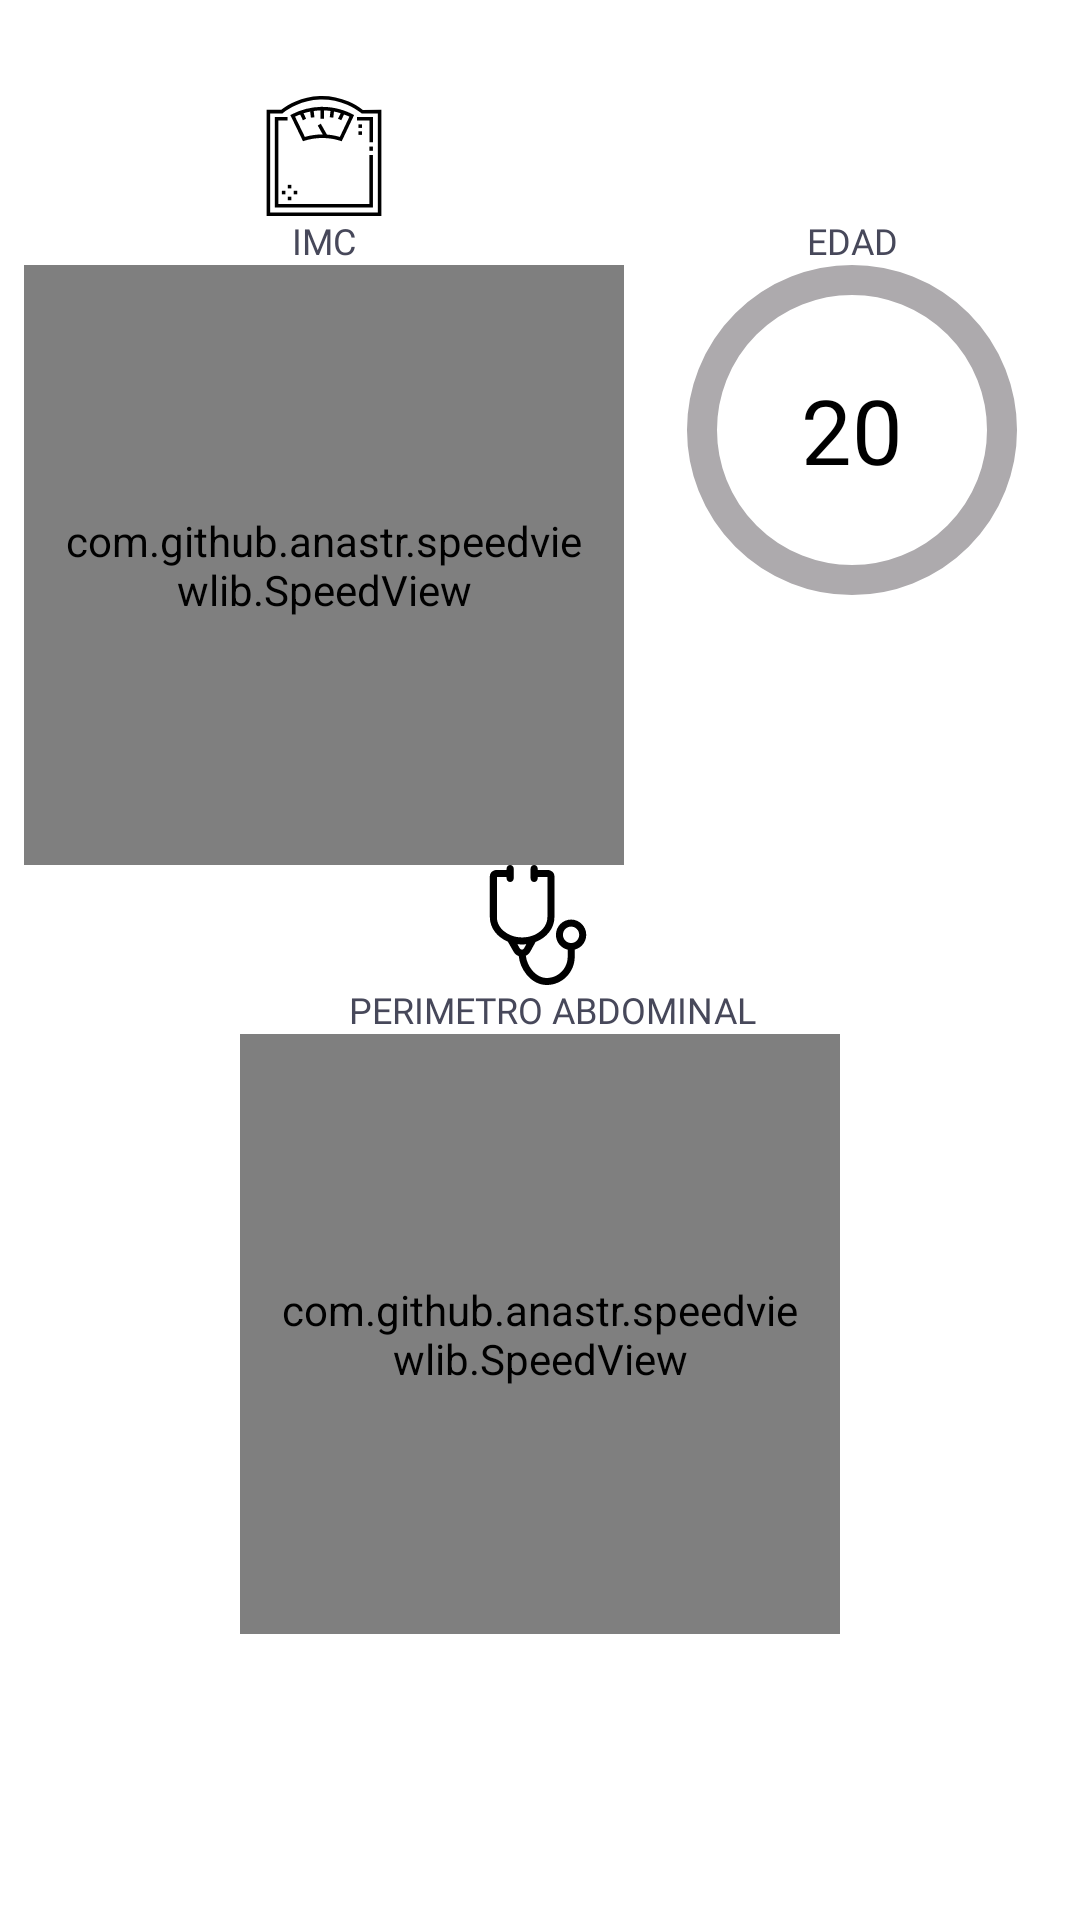

Icon click points for this 1080w x 1920h phone screenshot, format (x,y):
balanza: (324,156)
estetoscopio: (538,925)
